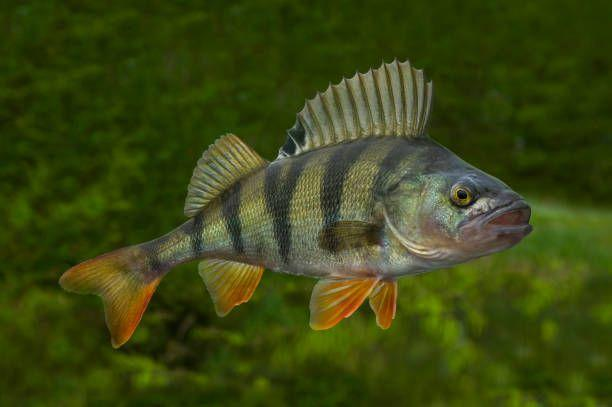Perch: (56, 60, 537, 350)
